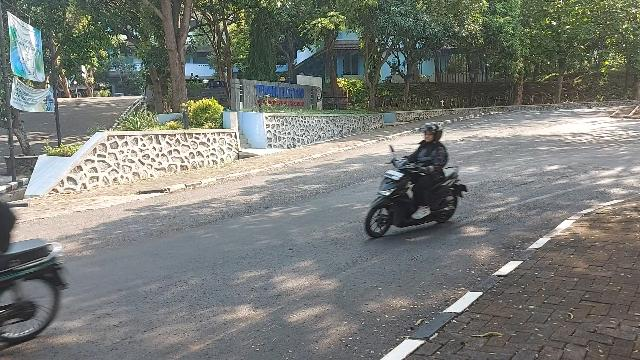helm: (420, 123, 443, 143)
motor: (366, 145, 468, 239)
